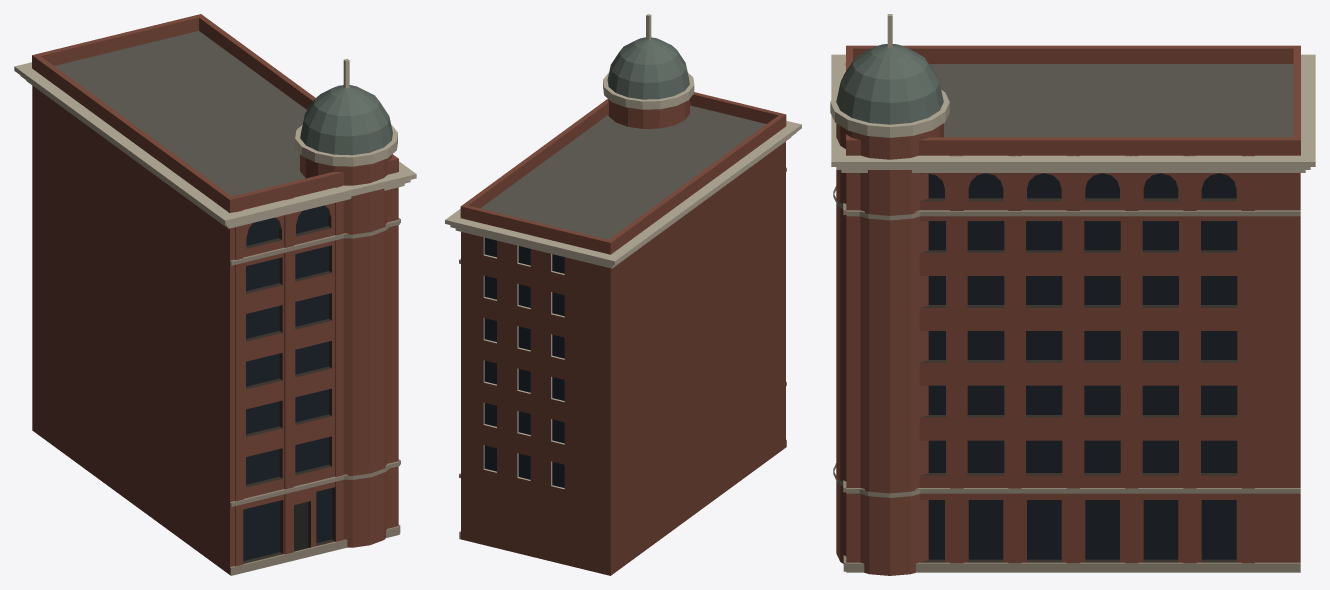
Rendered from masonic-temple-bank-1913.glb.
3 renders of one model, left to right at view 1: azimuth 30°, elevation 25°; view 2: azimuth 150°, elevation 25°; view 3: azimuth 270°, elevation 25°, orthographic. The views are drawn at different scales.
Parts seen in each view (by area): view 1: masonic_brick2, masonic_brick, masonic_roof, masonic_glass, masonic_trim, masonic_dome, masonic_sash, masonic_stone, masonic_dark; view 2: masonic_brick2, masonic_roof, masonic_brick, masonic_trim, masonic_glass, masonic_dome; view 3: masonic_brick, masonic_glass, masonic_roof, masonic_trim, masonic_stone, masonic_dome, masonic_sash.
Part boxes in pixels (<box>): masonic_brick2: <box>32,85,229,574</box>; masonic_brick: <box>32,14,398,566</box>; masonic_roof: <box>54,31,306,196</box>; masonic_glass: <box>243,205,332,560</box>; masonic_trim: <box>14,58,416,228</box>; masonic_dome: <box>300,85,392,155</box>; masonic_sash: <box>243,206,335,563</box>; masonic_stone: <box>230,218,400,575</box>; masonic_dark: <box>294,502,308,551</box>; masonic_brick2: <box>461,141,785,575</box>; masonic_roof: <box>480,105,766,239</box>; masonic_brick: <box>460,92,786,254</box>; masonic_trim: <box>445,14,801,489</box>; masonic_glass: <box>484,237,564,487</box>; masonic_dome: <box>607,37,689,99</box>; masonic_brick: <box>836,45,1300,575</box>; masonic_glass: <box>928,173,1237,559</box>; masonic_roof: <box>929,64,1293,137</box>; masonic_trim: <box>830,14,1315,172</box>; masonic_stone: <box>833,186,1300,572</box>; masonic_dome: <box>836,44,943,124</box>; masonic_sash: <box>920,198,1237,562</box>.
Bounding box in the file's own units: 15.15 × 35.3 × 28.85.
